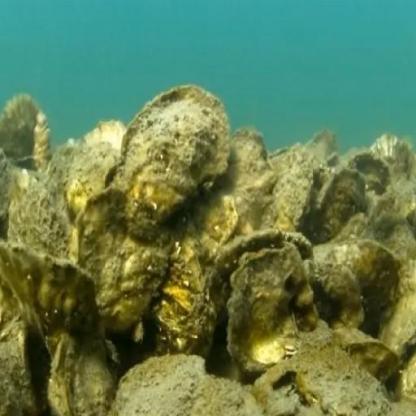Oyster- Indeterminate: (278, 384, 298, 398)
Oyster-Closed: (8, 252, 115, 416), (71, 188, 174, 337), (122, 83, 227, 217), (201, 238, 313, 335), (228, 259, 320, 368), (104, 355, 267, 416), (152, 239, 214, 356), (295, 346, 393, 416), (328, 241, 402, 333), (215, 130, 275, 232), (4, 188, 74, 259), (260, 166, 334, 231), (47, 141, 106, 222), (306, 169, 366, 242), (173, 191, 237, 257), (309, 262, 366, 330), (0, 96, 48, 171), (334, 328, 400, 381), (382, 262, 416, 355), (84, 121, 129, 174), (372, 135, 414, 179), (347, 153, 393, 193)
